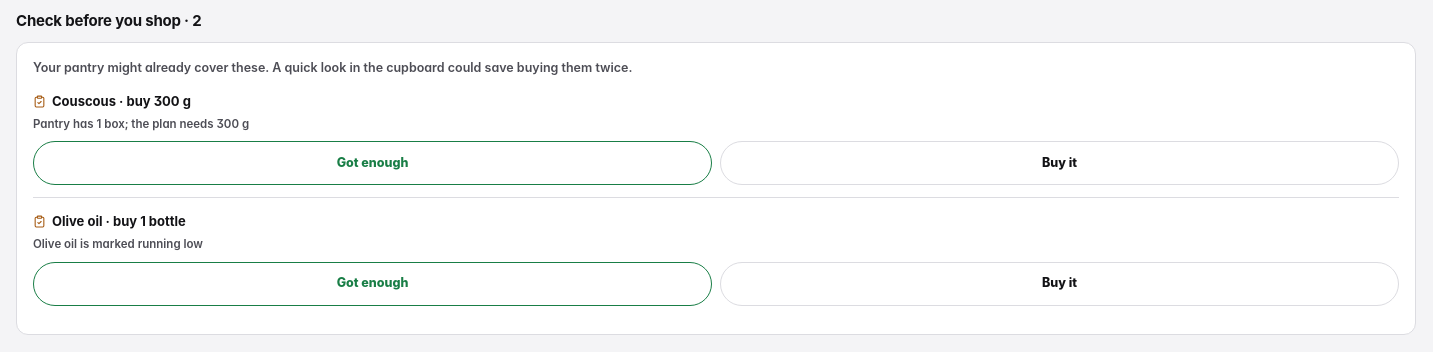
Test case: Check before you shop card › "Got enough" takes couscous off the list and confirms it in the pantry
Click the button with aria-label "Got enough Couscous". click: click(372, 163)
box: [33,141,712,185]
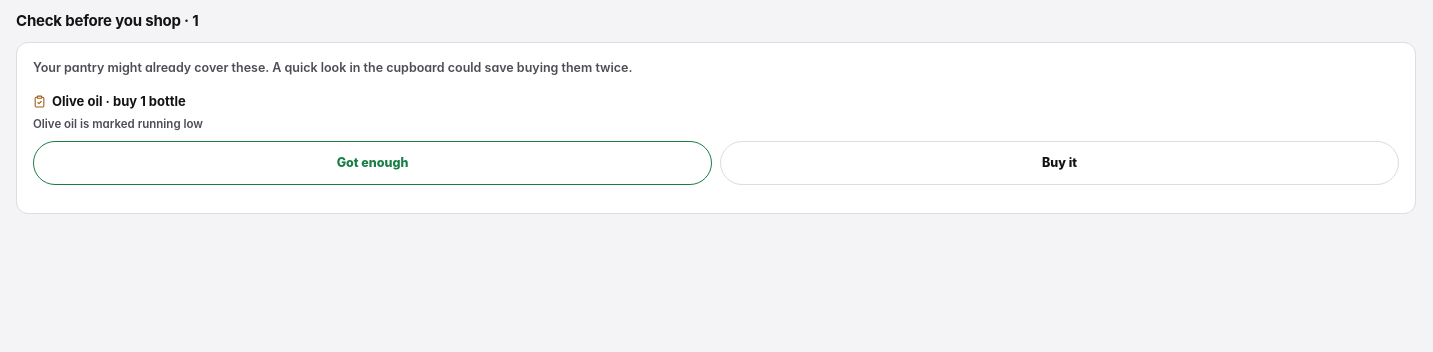
Now the heading "Check before you shop · 1" is shown, box [16,12,198,30]
